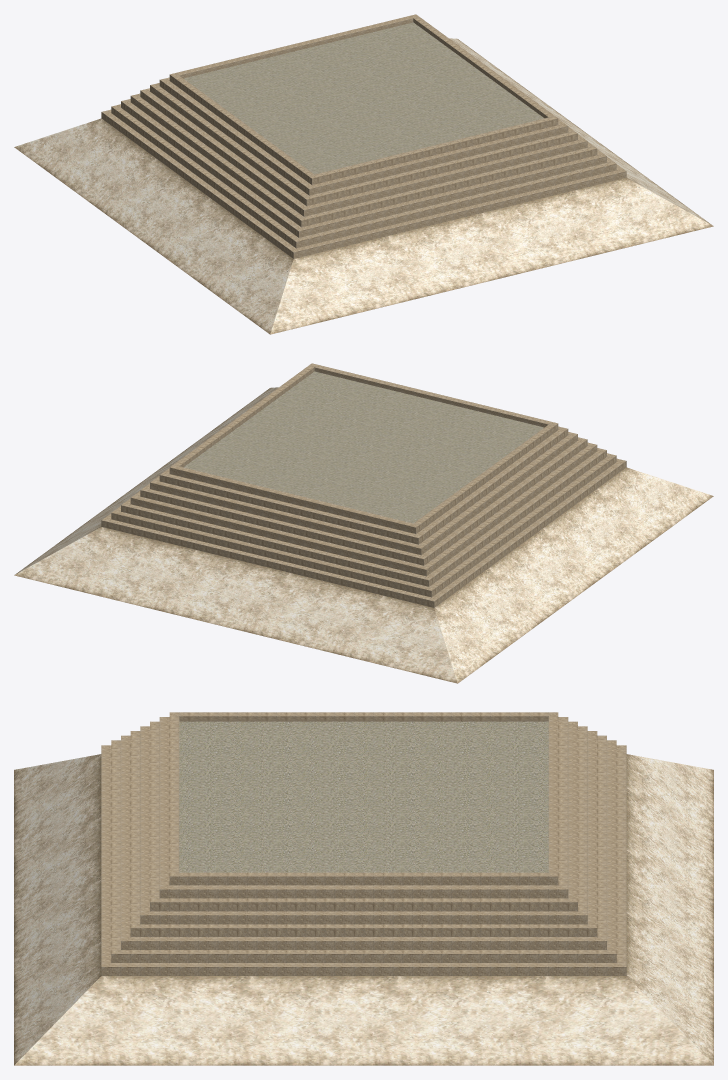
File: ply_tato_garden_sml_s01_l0.fbx
3 renders of one model, top to bottom at view 1: azimuth 30°, elevation 25°; view 2: azimuth 150°, elevation 25°; view 3: azimuth 270°, elevation 25°, orthographic. The views are drawn at different scales.
Parts seen in each view (by area): view 1: mesh_node; view 2: mesh_node; view 3: mesh_node.
Boxes of the visible parts, x1,y1,x2,y2 form: mesh_node: [14, 14, 713, 334]; mesh_node: [14, 363, 713, 683]; mesh_node: [14, 712, 713, 1065].
Size of the model in its own units: 18 by 3.5 by 18.
